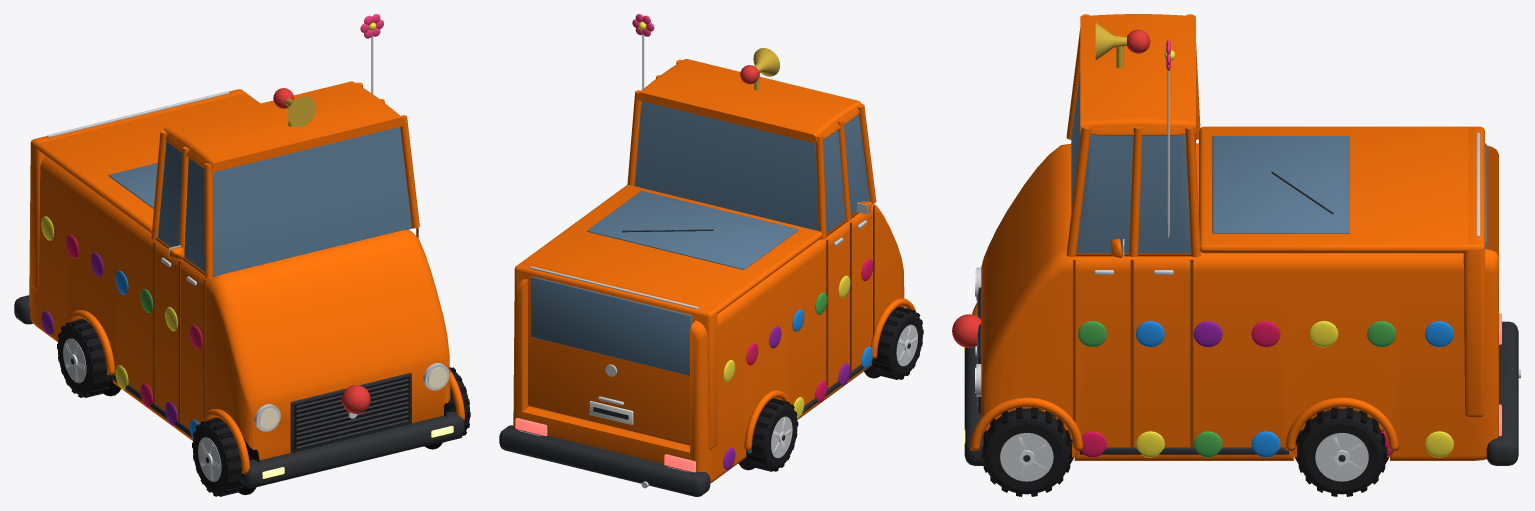
Rendered from clown.fbx.
3 renders of one model, left to right at view 1: azimuth 30°, elevation 25°; view 2: azimuth 150°, elevation 25°; view 3: azimuth 270°, elevation 25°, orthographic. The views are drawn at different scales.
Visible parts, largest first — view 1: Body, Lid, Wheel_1, Wheel_3, LidFlap, Wheel_2; view 2: Body, LidFlap, Lid, Wheel_3, Wheel_1; view 3: Body, Lid, Wheel_2, Wheel_0, LidFlap.
Part boxes in pixels (x1,y1,x2,y2): Body: [14, 14, 464, 494]; Lid: [30, 89, 260, 233]; Wheel_1: [57, 319, 111, 397]; Wheel_3: [192, 418, 243, 496]; LidFlap: [30, 89, 243, 290]; Wheel_2: [443, 367, 470, 442]; Body: [499, 14, 916, 496]; LidFlap: [514, 262, 717, 449]; Lid: [514, 185, 822, 317]; Wheel_3: [872, 306, 923, 379]; Wheel_1: [747, 398, 798, 471]; Body: [952, 14, 1520, 465]; Lid: [1199, 126, 1484, 253]; Wheel_2: [982, 407, 1071, 496]; Wheel_0: [1297, 407, 1386, 496]; LidFlap: [1463, 127, 1486, 417].
Bounding box in the file's own units: 5.5 × 8.15 × 9.35.
